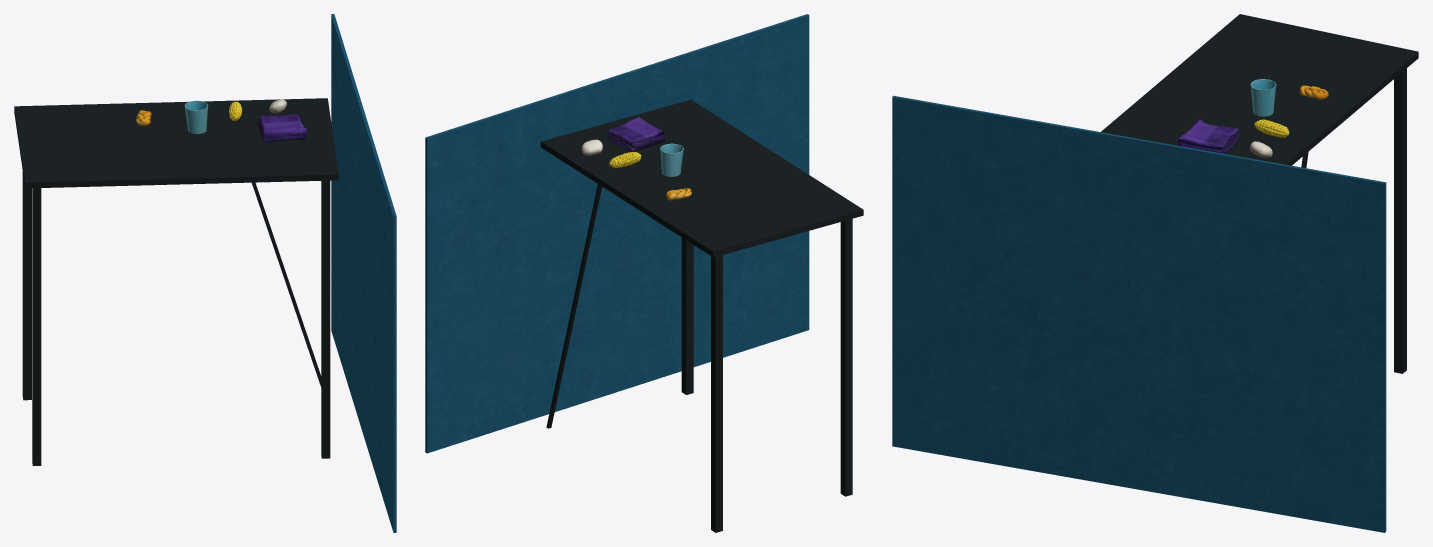
File: ours.glb
3 views of the same model, side by side, from view 1: azimuth 30°, elevation 25°; view 2: azimuth 150°, elevation 25°; view 3: azimuth 270°, elevation 25° (orthographic). The views are drawn at different scales.
Parts seen in each view (by area): view 1: table_0, wall_0, obj_towel_0, obj_cup_0; view 2: wall_0, table_0, obj_towel_0, obj_cup_0; view 3: wall_0, table_0, obj_towel_0, obj_cup_0.
Boxes of the visible parts, left/top/right/bottom form: table_0: left=14, top=98, right=338, bottom=465; wall_0: left=331, top=14, right=396, bottom=532; obj_towel_0: left=257, top=114, right=307, bottom=142; obj_cup_0: left=184, top=100, right=208, bottom=134; wall_0: left=425, top=14, right=809, bottom=453; table_0: left=540, top=99, right=863, bottom=532; obj_towel_0: left=607, top=117, right=665, bottom=151; obj_cup_0: left=660, top=143, right=683, bottom=176; wall_0: left=892, top=95, right=1386, bottom=532; table_0: left=1101, top=14, right=1418, bottom=373; obj_towel_0: left=1177, top=119, right=1240, bottom=153; obj_cup_0: left=1250, top=79, right=1276, bottom=116.
Size of what is drawn, in the model's own units: 1.61 by 1.3 by 1.78.
Materials: 8 (8 with a texture image).
